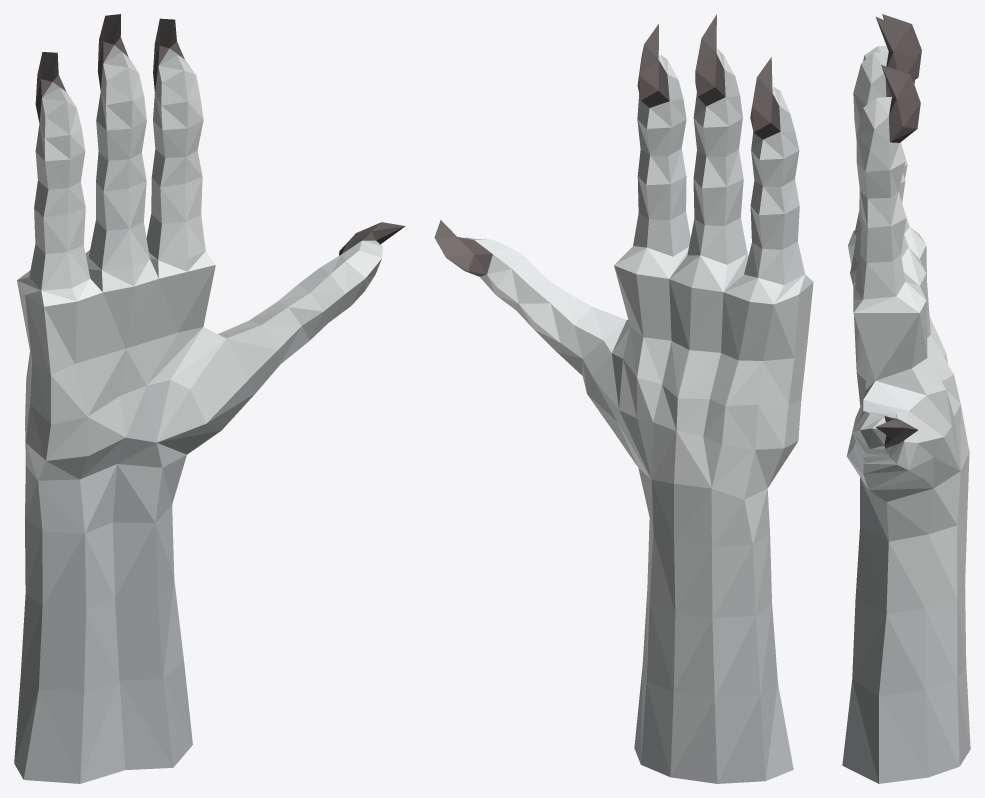
File: olm_left_hand.glb
3 renders of one model, left to right at view 1: azimuth 30°, elevation 25°; view 2: azimuth 150°, elevation 25°; view 3: azimuth 270°, elevation 25°, orthographic. The views are drawn at different scales.
Size of the model in its own units: 382 by 731 by 116.
Materials: 1 (1 with a texture image).
